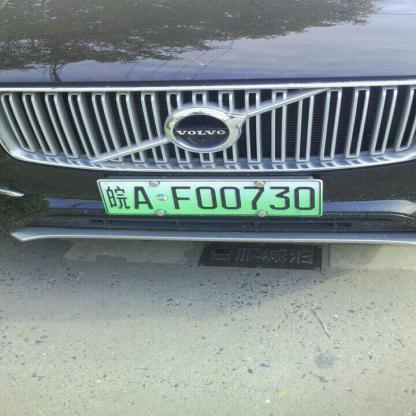lp: (99, 180, 320, 213)
